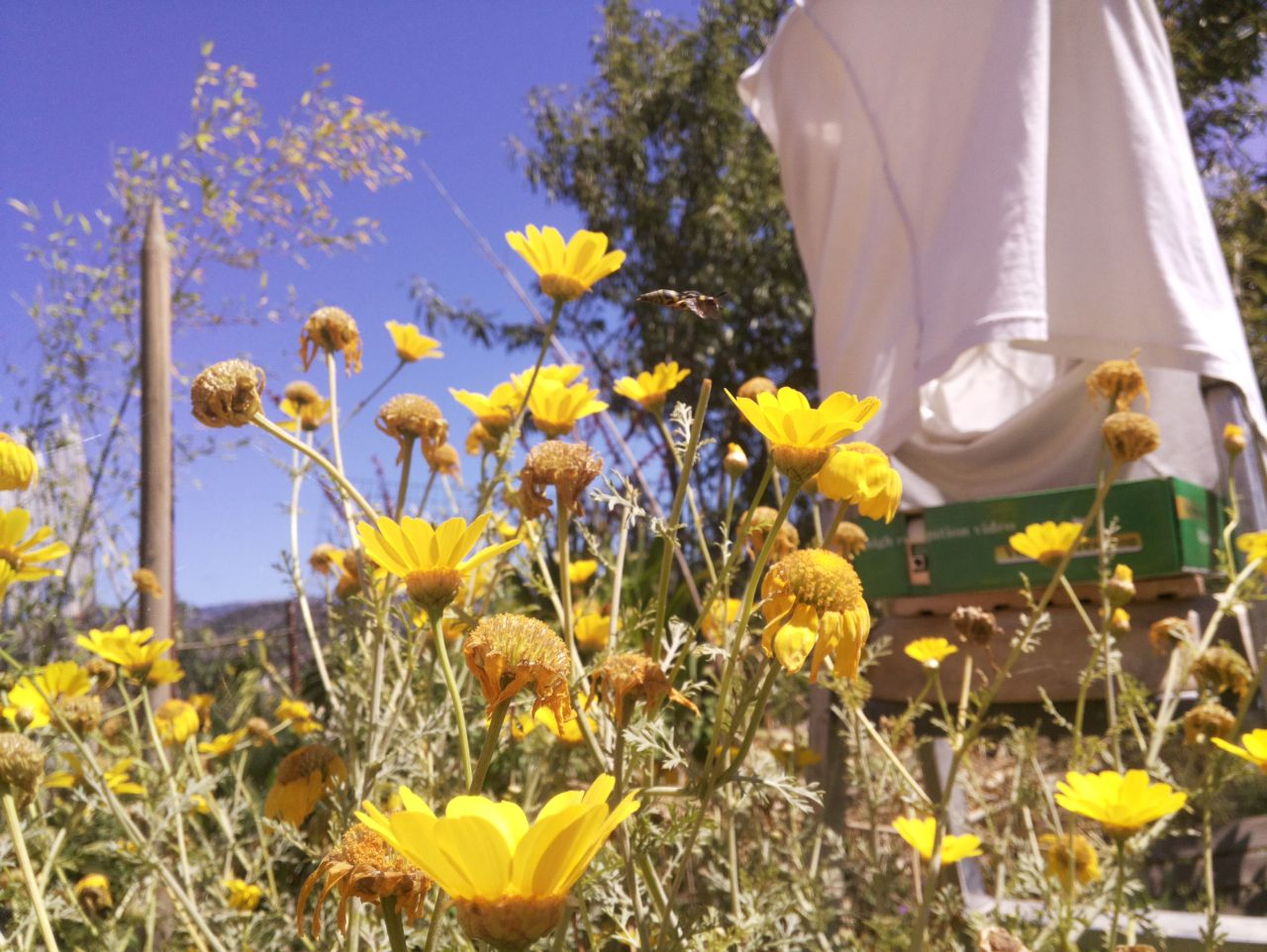Wasp: (614, 270, 736, 341)
